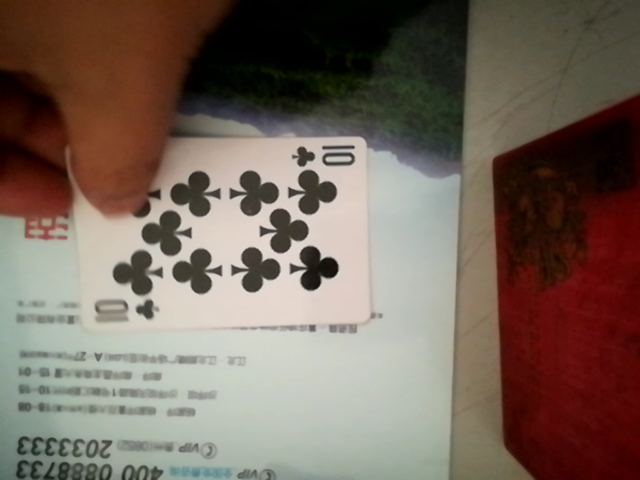mh 10: (80, 128, 373, 344)
